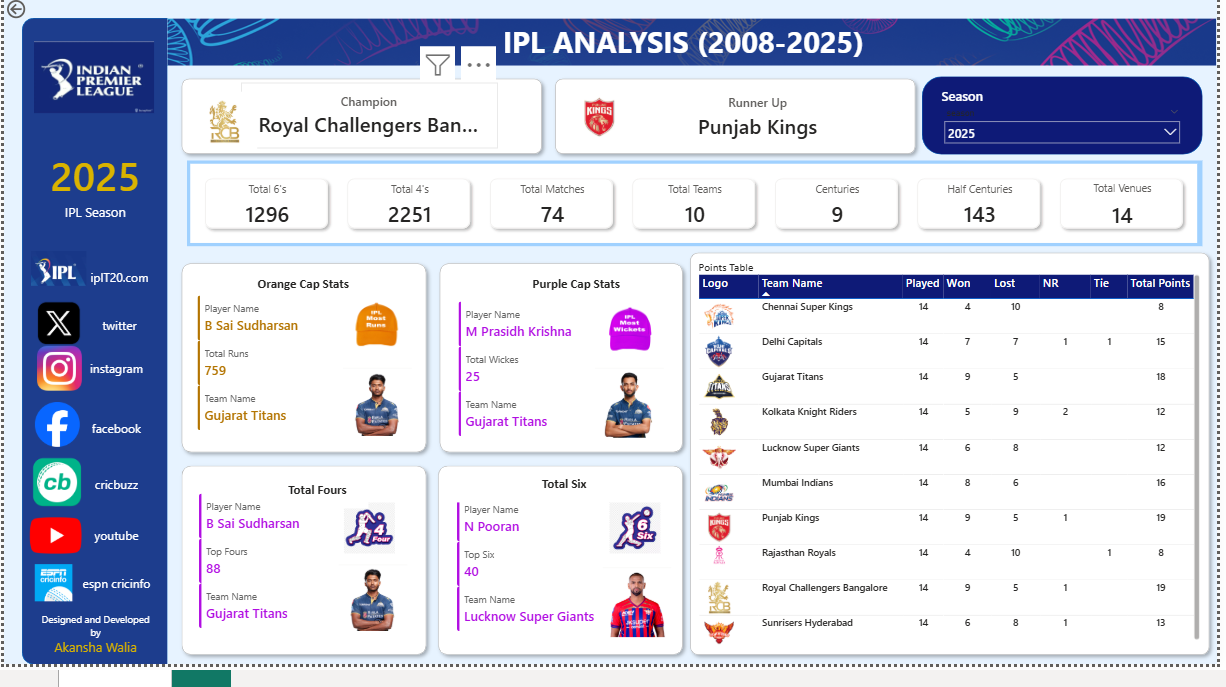

Layout of this report page (visuals, bound fields, positions):
{"tool":"powerbi","page":{"name":"Page 1","canvas":[2000,1100],"ordinal":0},"visuals":[{"type":"shape","box":[30.8,33.8,240,1066.2],"z":0},{"type":"shape","box":[1514,131.1,462.6,128.6],"z":1000},{"type":"shape","box":[1120.6,410.7,878.2,685.2],"z":2000},{"type":"shape","box":[705,761.9,425.5,334],"z":3000},{"type":"shape","box":[282,761.9,425.5,334],"z":4000},{"type":"shape","box":[282,428,425.5,334],"z":5000},{"type":"shape","box":[898,123.7,616,146],"z":6000},{"type":"cardVisual","fields":{"Data":["ipl_matches_data.Runner Up"]},"box":[999.4,143.5,487.3,108.8],"z":7000},{"type":"shape","box":[282,123.7,616,146],"z":8000},{"type":"image","box":[270.8,28.8,1729.2,89.1],"z":9000},{"type":"textbox","box":[802.7,33.8,638.2,89.1],"z":10000},{"type":"slicer","title":"Season","fields":{"Values":["ipl_matches_data.season"]},"box":[1541.2,148.4,408.2,96.5],"z":11000},{"type":"cardVisual","fields":{"Data":["ipl_matches_data.Season Winner"]},"box":[390.9,141,422,108.8],"z":12000},{"type":"cardVisual","fields":{"Data":["ipl_matches_data.Season Winner Logo"]},"box":[304.3,150.9,118.7,108.8],"z":13000},{"type":"cardVisual","fields":{"Data":["ipl_matches_data.Runner Up Team Logo"]},"box":[922.7,143.5,118.7,108.8],"z":14000},{"type":"cardVisual","fields":{"Data":["ipl_matches_data.Total 6's","ipl_matches_data.Total 4's","ipl_matches_data.Total Matches","ipl_matches_data.Total Teams","ipl_matches_data.Centuries","ipl_matches_data.Half Centuries","ipl_matches_data.Total Venues"]},"box":[301.8,269.6,1674.8,141],"z":15000},{"type":"cardVisual","fields":{"Data":["ipl_matches_data.Orange Cap Holder","ipl_matches_data.Orange Cap Runs","ipl_matches_data.Orange Cap Team Name"]},"box":[301.8,475,237.5,257.3],"z":16000},{"type":"textbox","box":[361.2,455.2,264.7,47],"z":17000},{"type":"cardVisual","fields":{"Data":["ipl_matches_data.Orange Cap Image"]},"box":[541.8,479.9,148.4,264.7],"z":18000},{"type":"image","box":[546.7,502.2,136.1,76.7],"z":19000},{"type":"shape","box":[707.5,428,423,334],"z":20000},{"type":"cardVisual","fields":{"Data":["ipl_matches_data.Purple Cap Holder","ipl_matches_data.Purple Cap Wicket Count","ipl_matches_data.Purple Cap Team"]},"box":[732.3,484.9,237.5,257.3],"z":21000},{"type":"cardVisual","fields":{"Data":["ipl_matches_data.Purple Cap Image"]},"box":[957.4,479.9,148.4,264.7],"z":22000},{"type":"image","box":[964.8,509.6,136.1,76.7],"z":23000},{"type":"cardVisual","fields":{"Data":["ipl_matches_data.Top Four Players Name","ipl_matches_data.Top Fours Count","ipl_matches_data.Top Fours Players Team Name"]},"box":[304.3,801.5,237.5,257.3],"z":24000},{"type":"textbox","box":[801.5,455.2,284.5,47],"z":25000},{"type":"textbox","box":[423,784.2,168.2,49.5],"z":26000},{"type":"cardVisual","fields":{"Data":["ipl_matches_data.Orange Cap Image"]},"box":[534.3,808.9,148.4,254.8],"z":27000},{"type":"cardVisual","fields":{"Data":["ipl_matches_data.Top Six Players Name","ipl_matches_data.Top Six Count","ipl_matches_data.Top Six Players Team Name"]},"box":[729.8,806.5,296.9,257.3],"z":28000},{"type":"cardVisual","fields":{"Data":["ipl_matches_data.Purple Cap Image"]},"box":[969.7,808.9,148.4,264.7],"z":29000},{"type":"textbox","box":[747.1,784.2,353.8,49.5],"z":30000},{"type":"image","box":[556.6,833.7,91.5,84.1],"z":31000},{"type":"textbox","box":[433,794.2,168.2,49.5],"z":32000},{"type":"image","box":[994.5,833.7,91.5,84.1],"z":33000},{"type":"tableEx","fields":{"Values":["teams_data.image_url","teams_data.team_name","ipl_matches_data.Matches Played","ipl_matches_data.Matches Won","ipl_matches_data.Lost Matches","ipl_matches_data.No Result Played","ipl_matches_data.Tie Played","ipl_matches_data.Total Points"]},"box":[1140.4,452.7,836.2,620.9],"z":34000},{"type":"actionButton","box":[0,0,100,40],"z":35000},{"type":"textbox","box":[1140.4,428,163.3,47],"z":36000},{"type":"actionButton","box":[128.6,425.5,123.7,74.2],"z":37000},{"type":"image","box":[44.5,398.3,91.5,99],"z":38000},{"type":"image","box":[49.5,39.6,197.9,185.5],"z":39000},{"type":"cardVisual","fields":{"Data":["ipl_matches_data.IPL Season"]},"box":[42.1,197.9,217.7,220.2],"z":40000},{"type":"image","box":[37.1,462.6,106.4,150.9],"z":41000},{"type":"actionButton","box":[128.6,504.7,123.7,74.2],"z":42000},{"type":"image","box":[54.4,556.6,74.2,111.3],"z":43000},{"type":"image","box":[47,667.9,81.6,74.2],"z":44000},{"type":"image","box":[47,739.7,81.6,121.2],"z":45000},{"type":"image","box":[42.1,846,86.6,84.1],"z":46000},{"type":"actionButton","box":[123.7,569,123.7,86.6],"z":47000},{"type":"actionButton","box":[123.7,667.9,123.7,86.6],"z":48000},{"type":"actionButton","box":[123.7,759.5,123.7,86.6],"z":49000},{"type":"image","box":[19.8,898,123.7,136.1],"z":50000},{"type":"actionButton","box":[123.7,846,123.7,84.1],"z":51000},{"type":"actionButton","box":[123.7,925.2,123.7,84.1],"z":52000},{"type":"textbox","box":[49.5,1009.3,202.9,86.6],"z":53000}]}

Visuals, with their boxes in screenshot pixels (x1, y1, x2, y2):
shape: {"x1": 19, "y1": 14, "x2": 164, "y2": 659}
shape: {"x1": 915, "y1": 73, "x2": 1195, "y2": 151}
shape: {"x1": 677, "y1": 242, "x2": 1208, "y2": 656}
shape: {"x1": 426, "y1": 454, "x2": 683, "y2": 656}
shape: {"x1": 170, "y1": 454, "x2": 428, "y2": 656}
shape: {"x1": 170, "y1": 252, "x2": 428, "y2": 454}
shape: {"x1": 543, "y1": 68, "x2": 915, "y2": 157}
cardVisual - ipl_matches_data.Runner Up: {"x1": 604, "y1": 80, "x2": 899, "y2": 146}
shape: {"x1": 170, "y1": 68, "x2": 543, "y2": 157}
image: {"x1": 164, "y1": 11, "x2": 1209, "y2": 65}
textbox: {"x1": 485, "y1": 14, "x2": 871, "y2": 68}
"Season" slicer: {"x1": 932, "y1": 83, "x2": 1178, "y2": 142}
cardVisual - ipl_matches_data.Season Winner: {"x1": 236, "y1": 79, "x2": 491, "y2": 145}
cardVisual - ipl_matches_data.Season Winner Logo: {"x1": 184, "y1": 85, "x2": 256, "y2": 151}
cardVisual - ipl_matches_data.Runner Up Team Logo: {"x1": 558, "y1": 80, "x2": 630, "y2": 146}
cardVisual - ipl_matches_data.Total 6's x ipl_matches_data.Total 4's: {"x1": 182, "y1": 157, "x2": 1195, "y2": 242}
cardVisual - ipl_matches_data.Orange Cap Holder x ipl_matches_data.Orange Cap Runs: {"x1": 182, "y1": 281, "x2": 326, "y2": 436}
textbox: {"x1": 218, "y1": 269, "x2": 378, "y2": 297}
cardVisual - ipl_matches_data.Orange Cap Image: {"x1": 328, "y1": 284, "x2": 417, "y2": 444}
image: {"x1": 330, "y1": 297, "x2": 413, "y2": 344}
shape: {"x1": 428, "y1": 252, "x2": 683, "y2": 454}
cardVisual - ipl_matches_data.Purple Cap Holder x ipl_matches_data.Purple Cap Wicket Count: {"x1": 443, "y1": 287, "x2": 586, "y2": 442}
cardVisual - ipl_matches_data.Purple Cap Image: {"x1": 579, "y1": 284, "x2": 668, "y2": 444}
image: {"x1": 583, "y1": 302, "x2": 666, "y2": 348}
cardVisual - ipl_matches_data.Top Four Players Name x ipl_matches_data.Top Fours Count: {"x1": 184, "y1": 478, "x2": 328, "y2": 634}
textbox: {"x1": 485, "y1": 269, "x2": 657, "y2": 297}
textbox: {"x1": 256, "y1": 468, "x2": 357, "y2": 498}
cardVisual - ipl_matches_data.Orange Cap Image: {"x1": 323, "y1": 483, "x2": 413, "y2": 637}
cardVisual - ipl_matches_data.Top Six Players Name x ipl_matches_data.Top Six Count: {"x1": 441, "y1": 481, "x2": 621, "y2": 637}
cardVisual - ipl_matches_data.Purple Cap Image: {"x1": 586, "y1": 483, "x2": 676, "y2": 643}
textbox: {"x1": 452, "y1": 468, "x2": 666, "y2": 498}
image: {"x1": 336, "y1": 498, "x2": 392, "y2": 548}
textbox: {"x1": 262, "y1": 474, "x2": 363, "y2": 504}
image: {"x1": 601, "y1": 498, "x2": 657, "y2": 548}
tableEx - teams_data.image_url x teams_data.team_name: {"x1": 689, "y1": 267, "x2": 1195, "y2": 643}
actionButton: {"x1": 0, "y1": 0, "x2": 60, "y2": 18}
textbox: {"x1": 689, "y1": 252, "x2": 788, "y2": 281}
actionButton: {"x1": 78, "y1": 251, "x2": 153, "y2": 296}
image: {"x1": 27, "y1": 234, "x2": 82, "y2": 294}
image: {"x1": 30, "y1": 18, "x2": 150, "y2": 130}
cardVisual - ipl_matches_data.IPL Season: {"x1": 25, "y1": 113, "x2": 157, "y2": 246}
image: {"x1": 22, "y1": 273, "x2": 87, "y2": 364}
actionButton: {"x1": 78, "y1": 299, "x2": 153, "y2": 344}
image: {"x1": 33, "y1": 330, "x2": 78, "y2": 397}
image: {"x1": 28, "y1": 397, "x2": 78, "y2": 442}
image: {"x1": 28, "y1": 441, "x2": 78, "y2": 514}
image: {"x1": 25, "y1": 505, "x2": 78, "y2": 556}
actionButton: {"x1": 75, "y1": 338, "x2": 150, "y2": 390}
actionButton: {"x1": 75, "y1": 397, "x2": 150, "y2": 450}
actionButton: {"x1": 75, "y1": 453, "x2": 150, "y2": 505}
image: {"x1": 12, "y1": 536, "x2": 87, "y2": 619}
actionButton: {"x1": 75, "y1": 505, "x2": 150, "y2": 556}
actionButton: {"x1": 75, "y1": 553, "x2": 150, "y2": 604}
textbox: {"x1": 30, "y1": 604, "x2": 153, "y2": 656}
